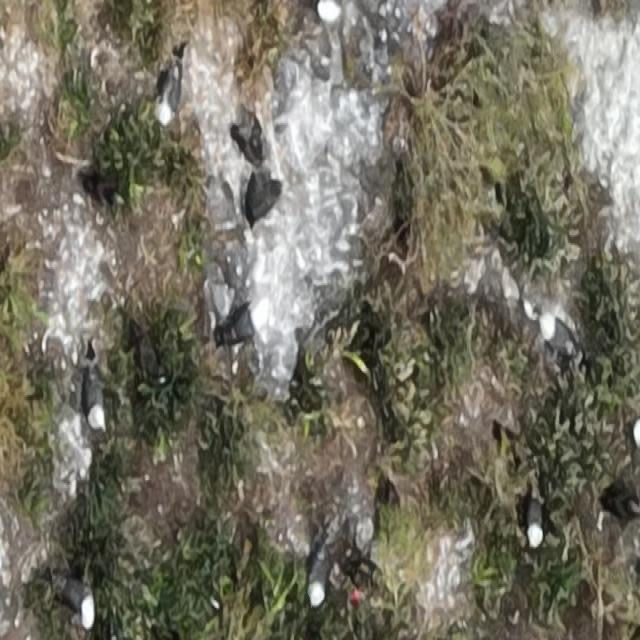umineko: (222, 300, 270, 340), (155, 55, 180, 127), (540, 314, 574, 354), (85, 361, 104, 430), (69, 586, 95, 631), (308, 556, 327, 606), (526, 497, 542, 544)
